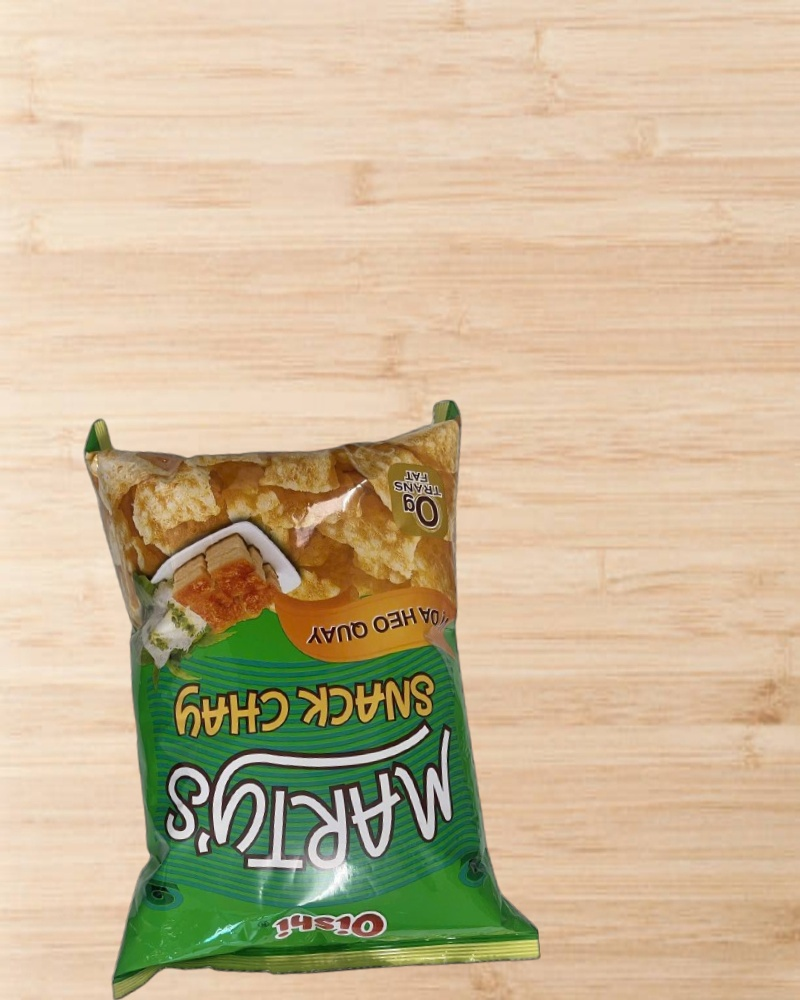Snack chay: (84, 387, 540, 999)
